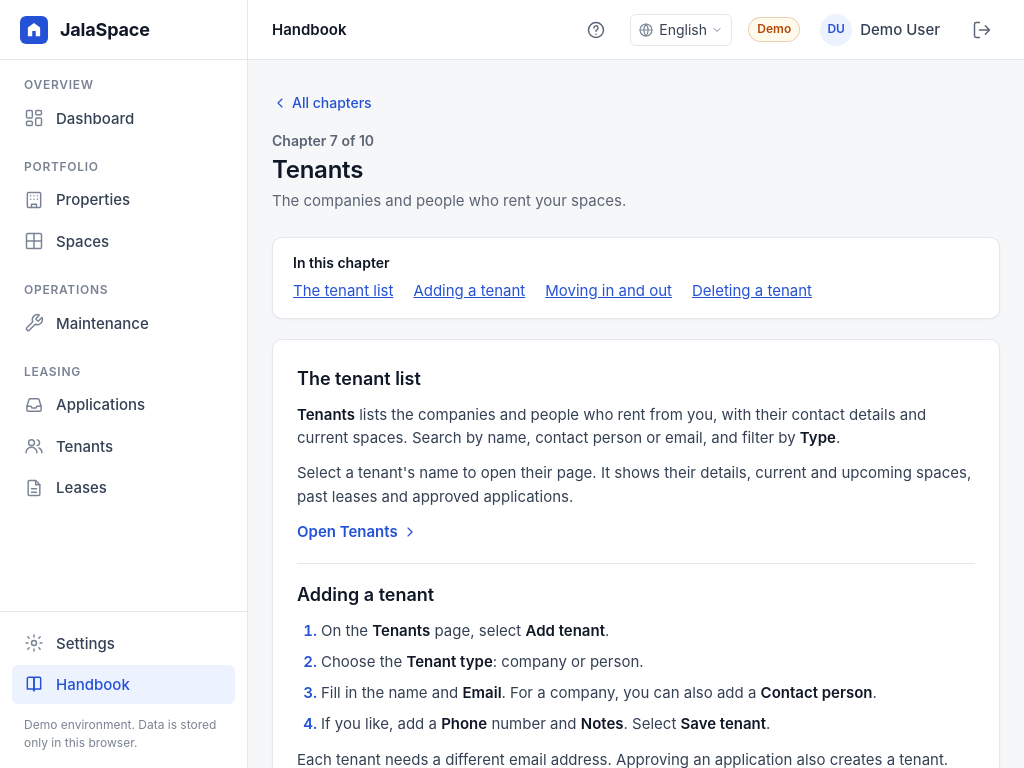
Test case: handbook › stays on the same chapter when the language changes
expect the heading "Tenants" is shown: met, box [272, 155, 363, 184]
Step 1. Select "Suomi" in the dropdown named "Language" → (681,30), box [630, 14, 732, 46]
(page scrolled)
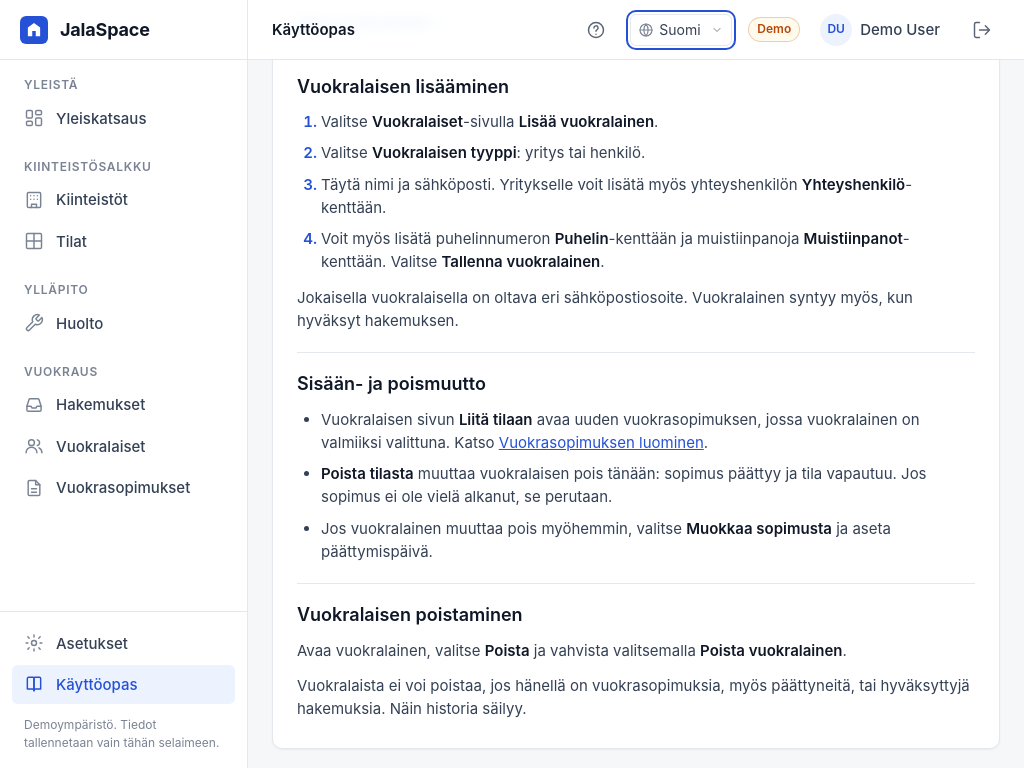
expect the heading "Sisään- ja poismuutto" is shown: met, box [297, 373, 486, 394]
